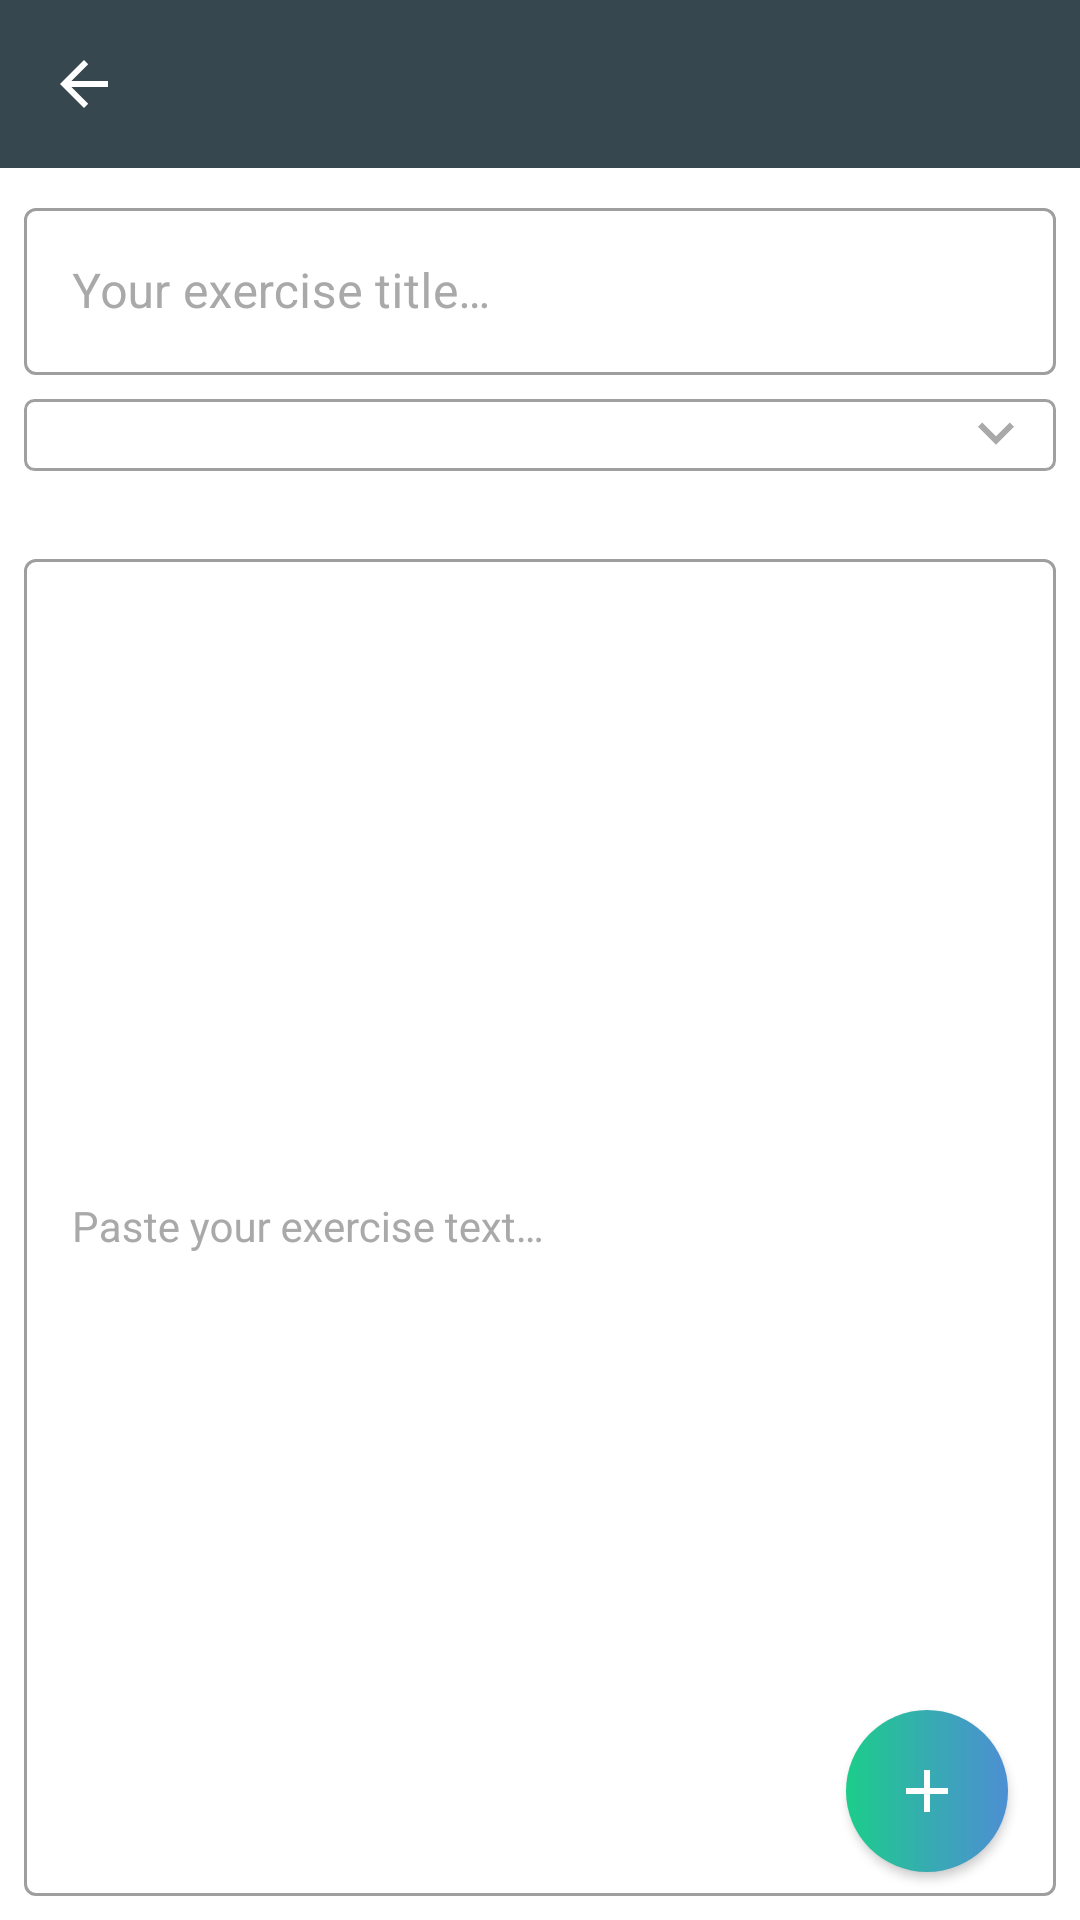

Screen size 1080px×1920px. Icon name, then its center in pixels as (x=x, y=y):
fab: (x=927, y=1791)
